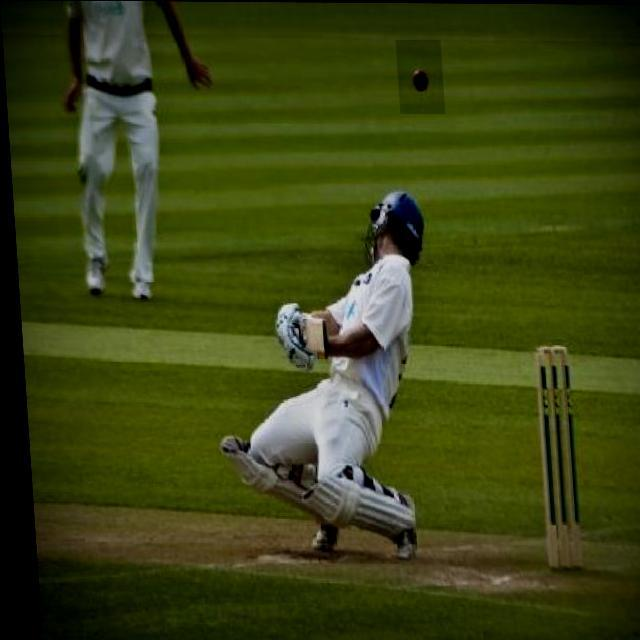-: (395, 40, 444, 114)
